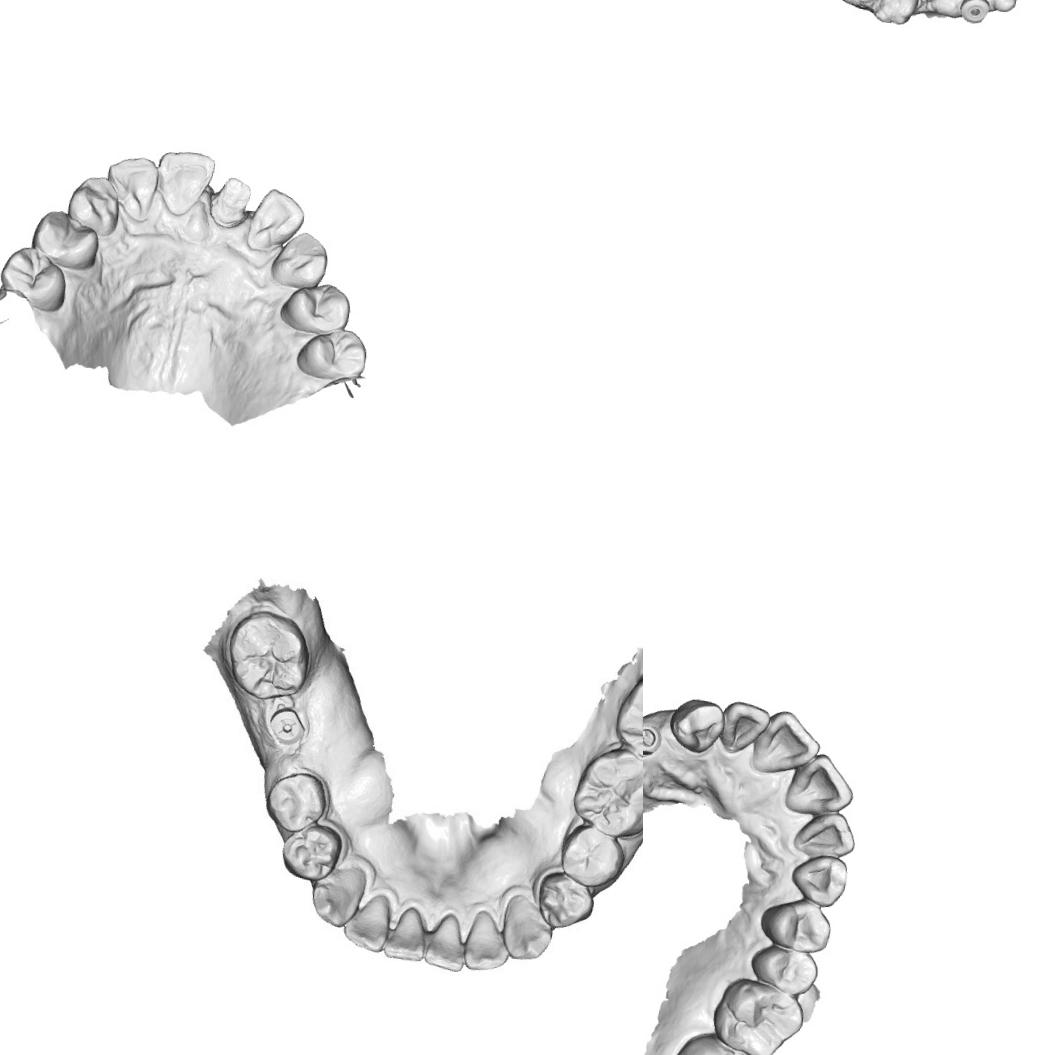canine: (306, 860, 371, 932), (267, 226, 331, 292), (502, 896, 560, 966), (668, 690, 726, 758), (65, 173, 124, 238), (787, 850, 852, 909)
crown: (207, 173, 254, 231)
implant: (959, 0, 990, 24), (643, 720, 662, 757)
implant_plus: (266, 700, 310, 747)
incisor: (752, 708, 824, 777), (152, 148, 217, 219), (784, 751, 854, 816), (243, 185, 307, 256), (102, 152, 160, 223), (458, 906, 514, 976), (794, 805, 860, 859), (340, 888, 393, 954), (716, 698, 773, 758), (422, 909, 470, 974), (382, 903, 430, 965)
molar: (221, 604, 317, 707), (567, 743, 643, 843), (710, 974, 803, 1055), (608, 666, 643, 766), (669, 1029, 759, 1055)
premolar: (755, 892, 836, 956), (556, 822, 629, 892), (0, 243, 71, 314), (27, 207, 103, 272), (275, 819, 347, 886), (261, 768, 329, 836), (277, 278, 354, 338), (294, 324, 368, 384), (533, 869, 599, 933), (750, 944, 818, 994)
